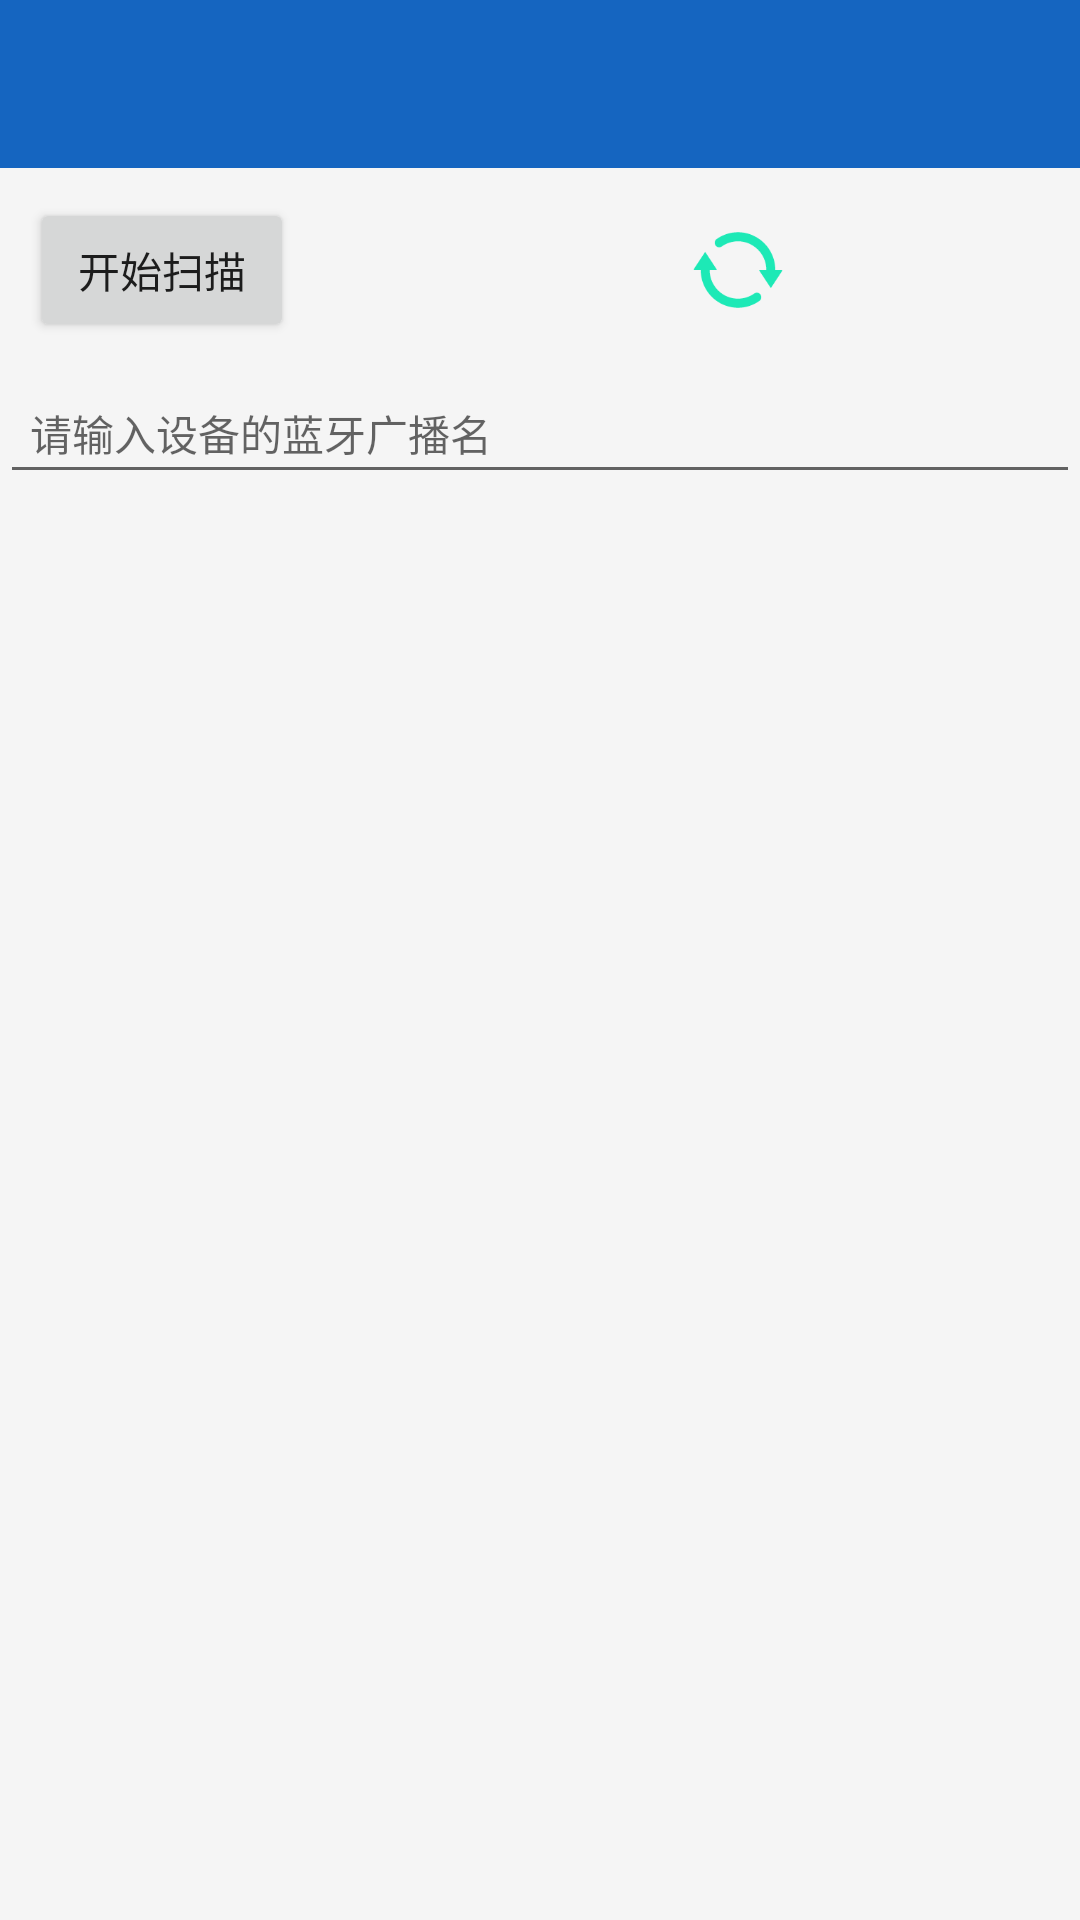

Icon bounding boxes for this 1080*1920 phone screenshot, format [left=x1, top=y1, right=x2, bottom=y2]:
loading: [left=693, top=232, right=783, bottom=308]
